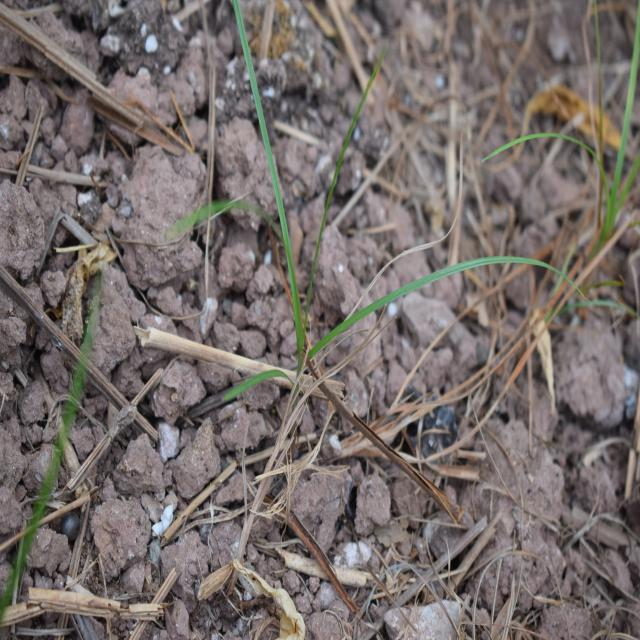sedge: (174, 0, 564, 557)
